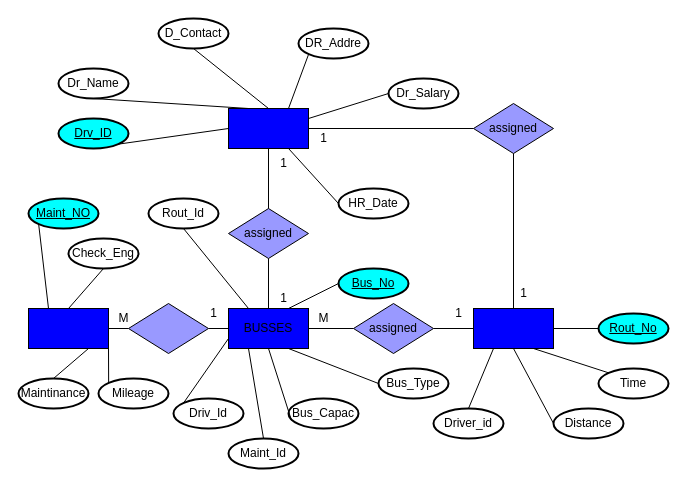
Some shapes in this 686 by 486 pixel diagram are drawn without their labels. Each missing label, with the box of its shape:
DRIVER: (228, 108, 308, 148)
has: (128, 302, 208, 354)
MAINT_LOG: (28, 308, 108, 348)
Route: (472, 308, 554, 348)
